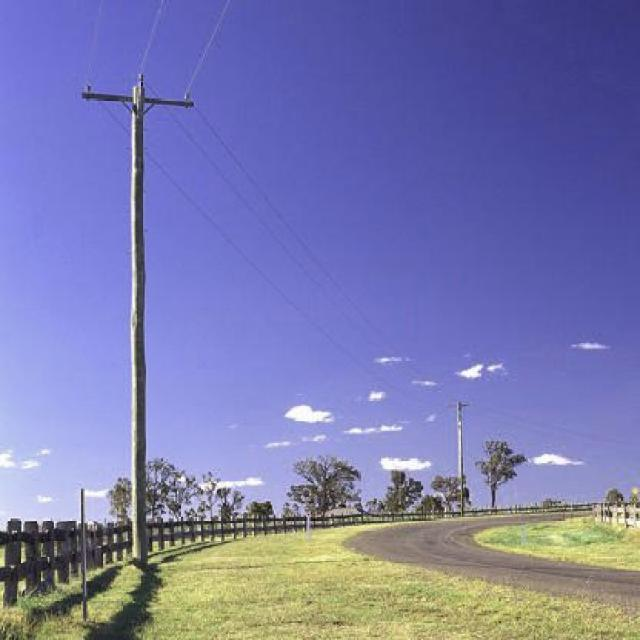crossarm: (79, 97, 196, 110)
pole: (133, 82, 146, 564)
wire: (93, 99, 363, 368), (167, 108, 382, 353), (194, 105, 365, 316), (183, 0, 231, 100), (134, 1, 169, 88), (87, 2, 108, 91)
